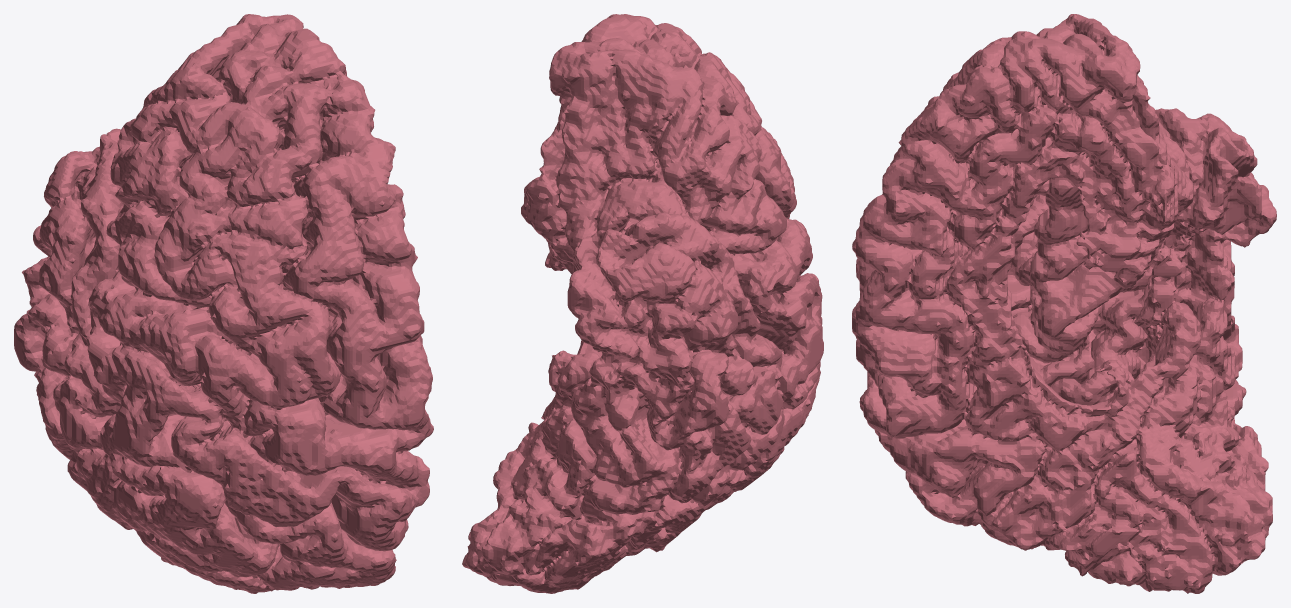
The model's file is aseg_003_Left-Cerebral-Cortex.glb.
The picture shows the model from 3 angles, left to right: view 1: azimuth 30°, elevation 25°; view 2: azimuth 150°, elevation 25°; view 3: azimuth 270°, elevation 25°; orthographic projection. The views are drawn at different scales.
Size of the model in its own units: 77.75 by 156 by 112.
